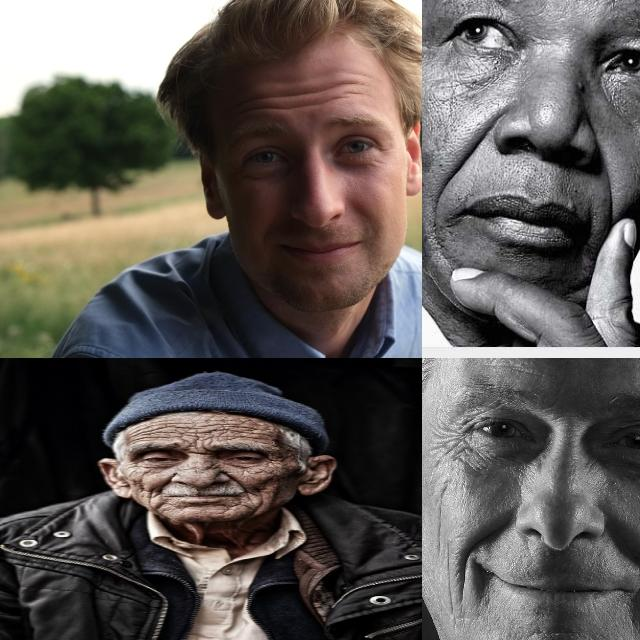bunny_line: (198, 460, 226, 470)
chin: (144, 497, 168, 512), (222, 502, 246, 512)
crows_feet: (436, 422, 466, 458), (264, 454, 288, 467)
forehead: (242, 92, 278, 118), (316, 80, 348, 108), (281, 88, 311, 115), (349, 71, 371, 103), (221, 424, 262, 439), (179, 424, 213, 441), (131, 428, 167, 440)
frown_line: (182, 445, 212, 455)
gummy_smile: (440, 122, 490, 190), (600, 167, 622, 220), (457, 540, 477, 594), (153, 477, 180, 492), (225, 472, 248, 489)
masseter: (440, 548, 458, 610), (432, 484, 448, 546), (248, 495, 272, 511)
